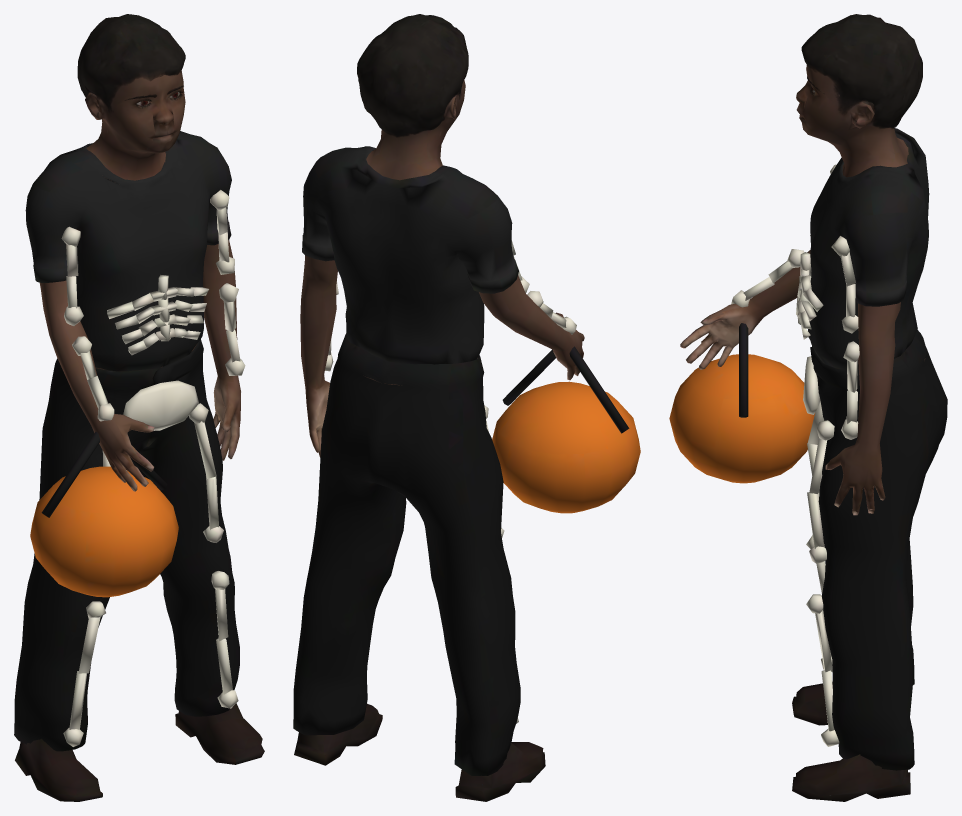
File: mq-kid_skeleton.glb
3 renders of one model, left to right at view 1: azimuth 30°, elevation 25°; view 2: azimuth 150°, elevation 25°; view 3: azimuth 270°, elevation 25°, orthographic.
Parts seen in each view (by area): view 1: MQ_kid_skeleton; view 2: MQ_kid_skeleton; view 3: MQ_kid_skeleton.
Boxes of the visible parts, x1,y1,x2,y2 form: MQ_kid_skeleton: (14, 14, 264, 801); MQ_kid_skeleton: (293, 14, 640, 801); MQ_kid_skeleton: (669, 14, 947, 801).
Size of the model in its own units: 0.4428 by 1.2 by 0.4124.
Materials: 1 (1 with a texture image).
